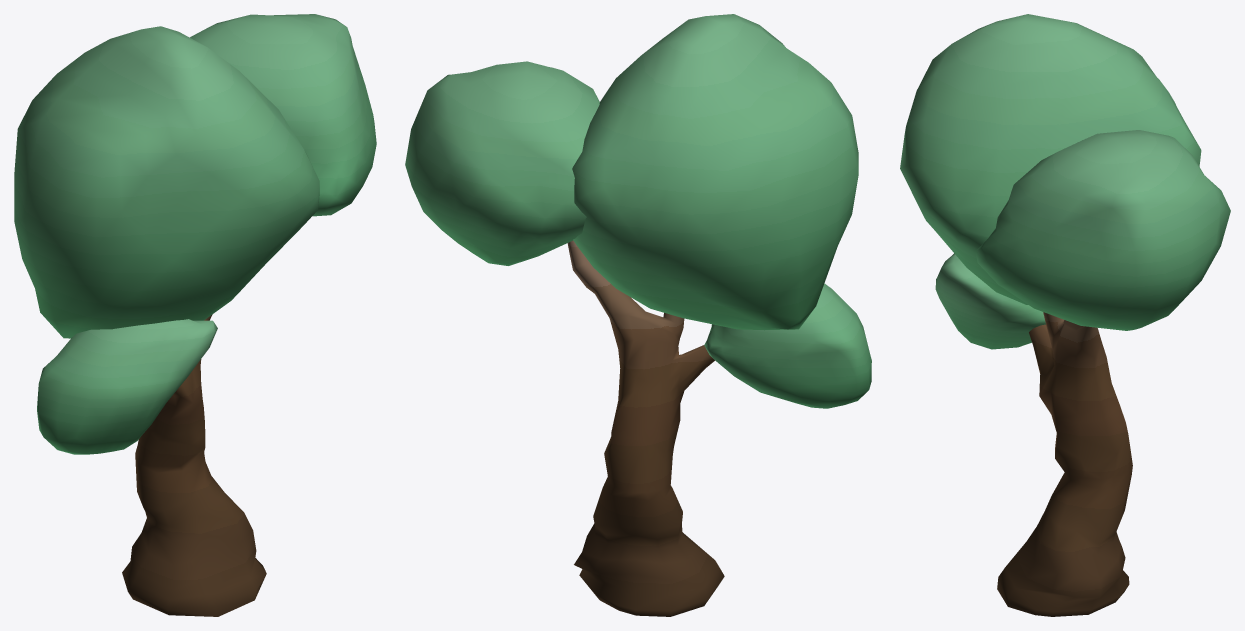
The model's file is SM_tree02.fbx.
3 views of the same model, side by side, from view 1: azimuth 30°, elevation 25°; view 2: azimuth 150°, elevation 25°; view 3: azimuth 270°, elevation 25° (orthographic). The views are drawn at different scales.
Parts seen in each view (by area): view 1: SM_tree02; view 2: SM_tree02; view 3: SM_tree02.
Part boxes in pixels (left/top/right/bottom): SM_tree02: left=14, top=14, right=376, bottom=616; SM_tree02: left=405, top=14, right=871, bottom=616; SM_tree02: left=900, top=14, right=1230, bottom=616.
Size of the model in its own units: 230 by 323 by 174.
